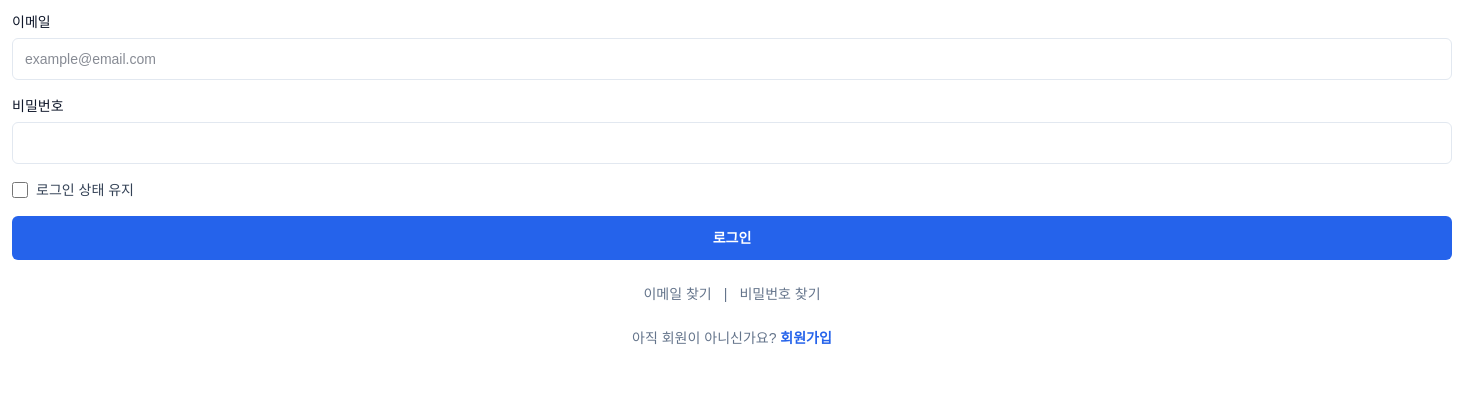
Scenario: MemberLoginForm › 잠금 → 버튼 비활성 + 남은 시간
Type "hong@example.com" into the field labelled "이메일" at (732, 59), box [12, 38, 1452, 80]
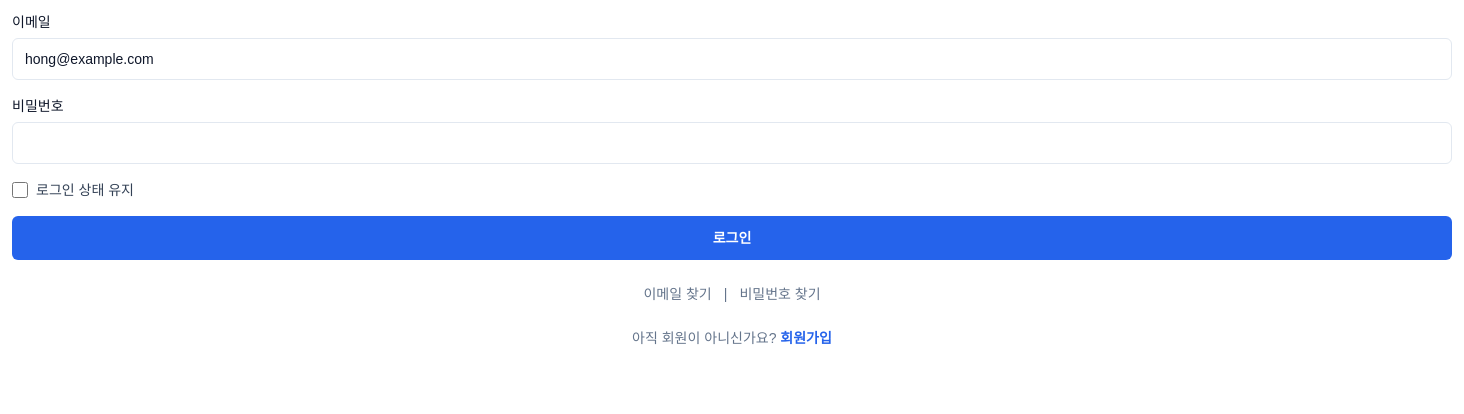
Type "wrong1234" into the password field labelled "비밀번호" at (732, 143), box [12, 122, 1452, 164]
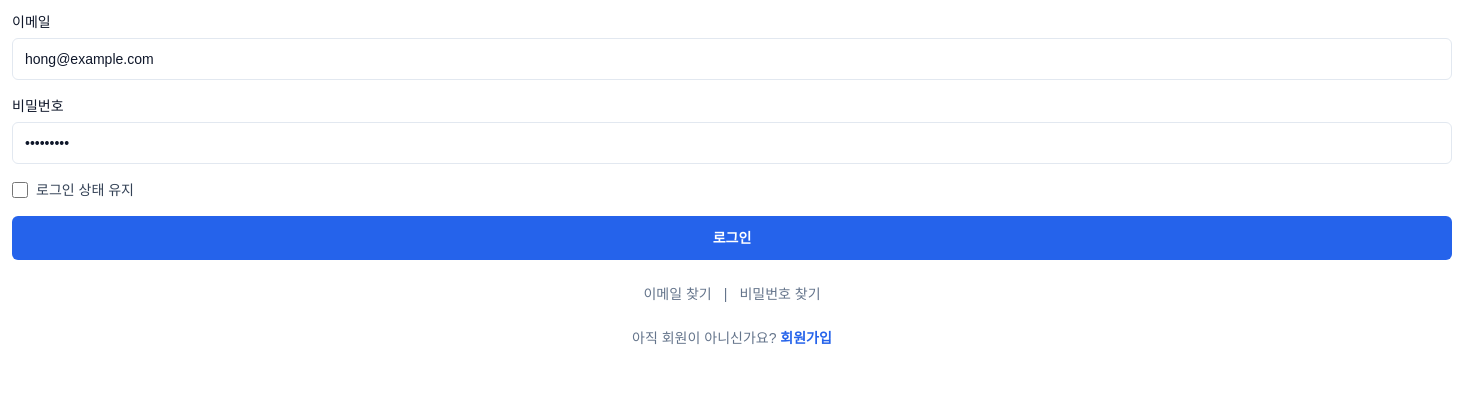
Click the button "로그인" at (732, 238), box [12, 216, 1452, 260]
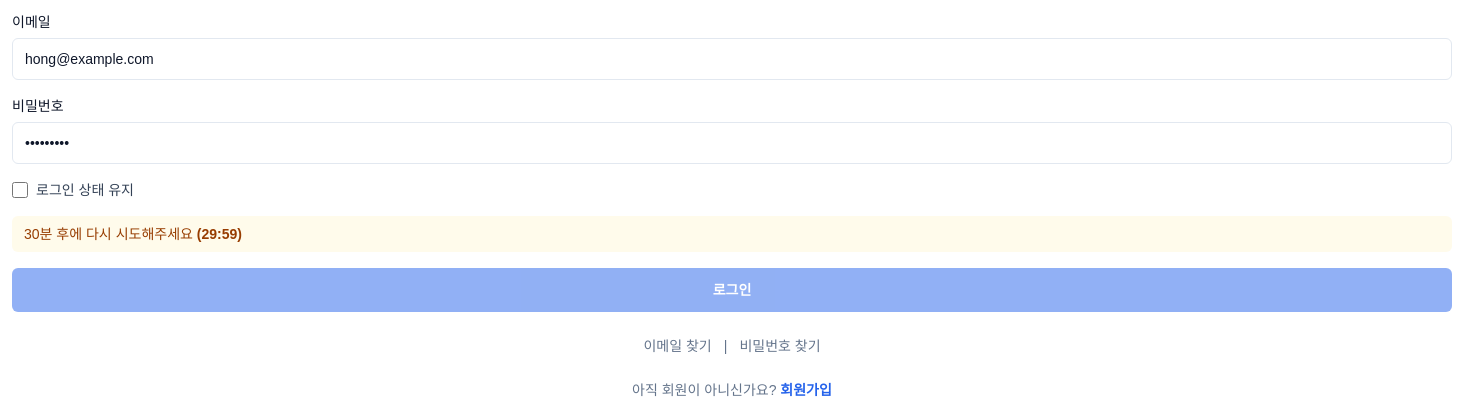
expect the text named "남은 잠금 시간" reads "(29:59)": met, box [202, 226, 237, 242]
expect the button "로그인" is disabled: met, box [12, 268, 1452, 312]
